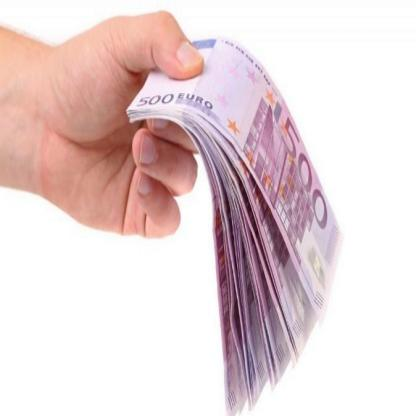billete: (124, 33, 344, 415)
